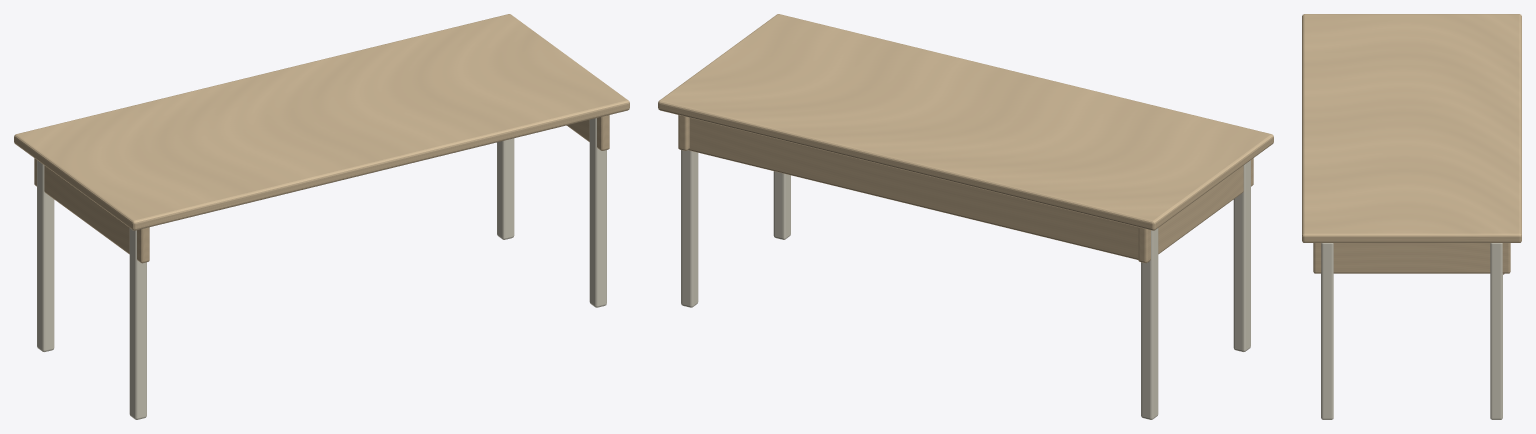
Rendered from desk-2.glb.
The picture shows the model from 3 angles, left to right: view 1: azimuth 30°, elevation 25°; view 2: azimuth 150°, elevation 25°; view 3: azimuth 270°, elevation 25°; orthographic projection. The views are drawn at different scales.
Parts seen in each view (by area): view 1: Tabletop, Tapered leg, Tapered leg.002, Tapered leg.001, Side apron, Tapered leg.003, Side apron.001; view 2: Tabletop, Rear apron, Tapered leg.001, Tapered leg, Side apron, Tapered leg.003, Tapered leg.002; view 3: Tabletop, Side apron.001, Tapered leg.002, Tapered leg.003.
Part boxes in pixels (x1,y1,x2,y2): Tabletop: (14, 14, 629, 230); Tapered leg: (129, 228, 146, 419); Tapered leg.002: (589, 118, 606, 307); Tapered leg.001: (37, 160, 54, 351); Side apron: (34, 158, 149, 263); Tapered leg.003: (497, 138, 514, 239); Side apron.001: (567, 115, 609, 150); Tabletop: (658, 14, 1273, 230); Rear apron: (688, 118, 1149, 262); Tapered leg.001: (1141, 228, 1158, 419); Tapered leg: (1233, 160, 1250, 351); Side apron: (1138, 158, 1253, 263); Tapered leg.003: (681, 150, 698, 307); Tapered leg.002: (773, 171, 790, 239); Tabletop: (1302, 14, 1521, 242); Side apron.001: (1313, 243, 1510, 273); Tapered leg.002: (1321, 243, 1333, 419); Tapered leg.003: (1490, 243, 1502, 419).
Size of the model in its own units: 1.86 by 0.75 by 0.78.
2 materials, 1 textured.
